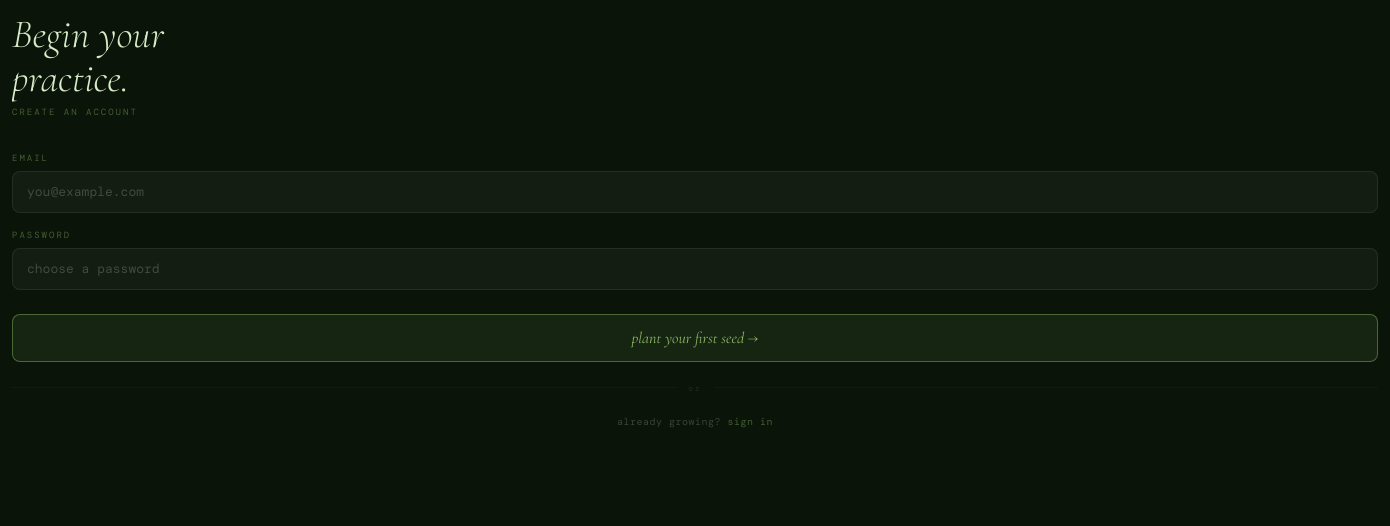
it: auth flow › shows an error for duplicate signup email
Step 1. Type "taken@garden.com" into the field with test id "auth-signup-email" → (695, 192), box [12, 171, 1378, 212]
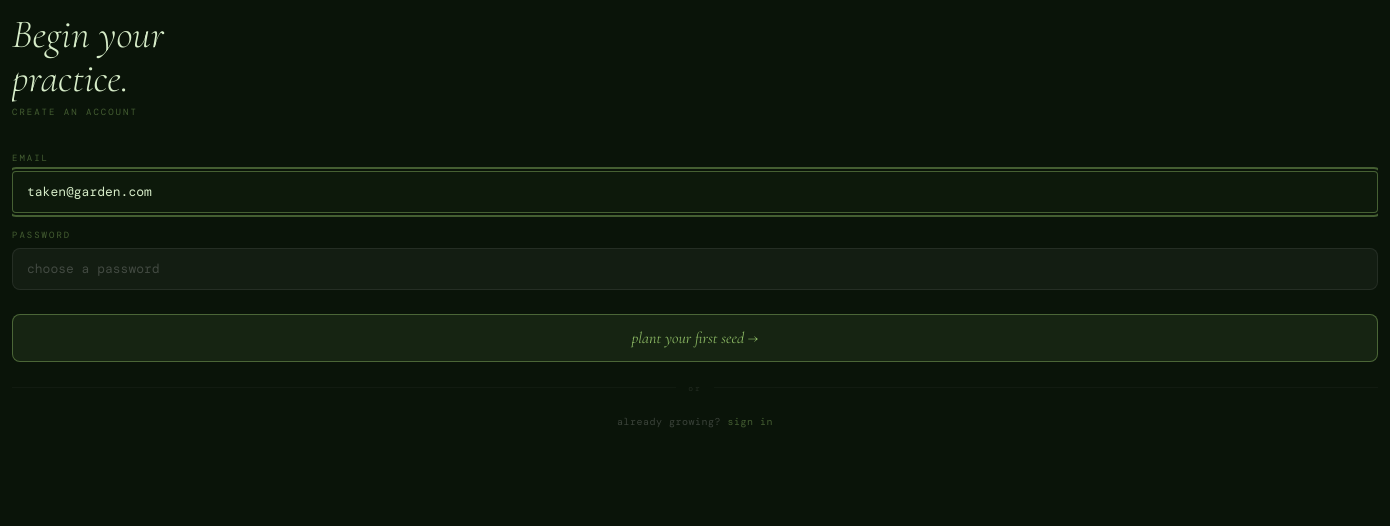
Step 2. Type "anotherpass" into the password field with test id "auth-signup-password" → (695, 269), box [12, 248, 1378, 290]
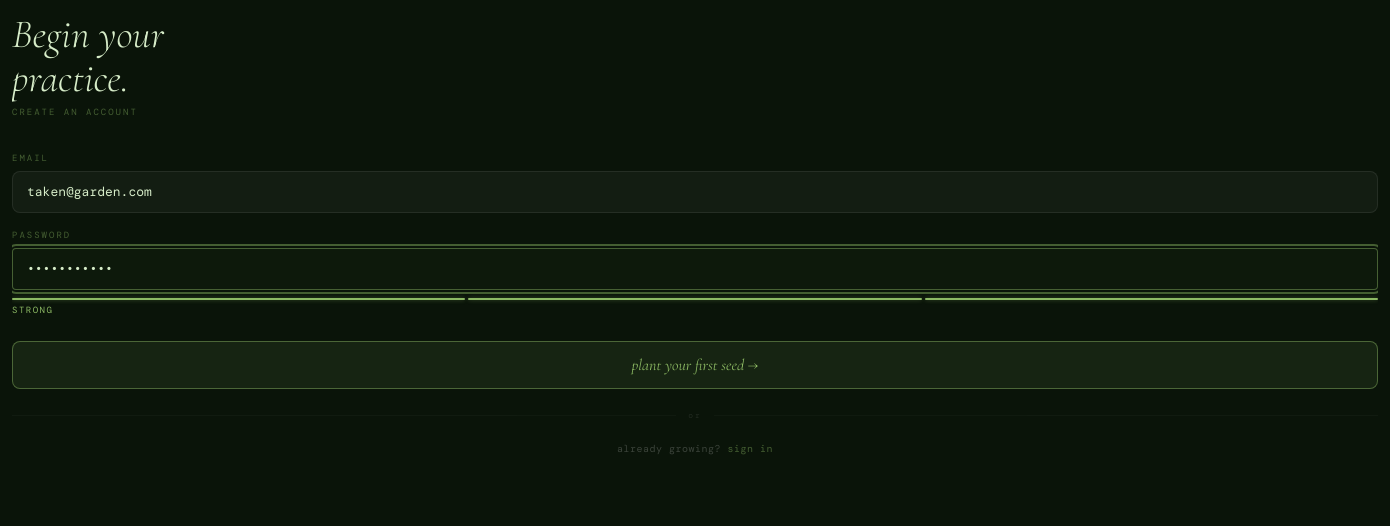
Step 3. Click the button with test id "auth-signup-submit" → (695, 365), box [12, 341, 1378, 389]
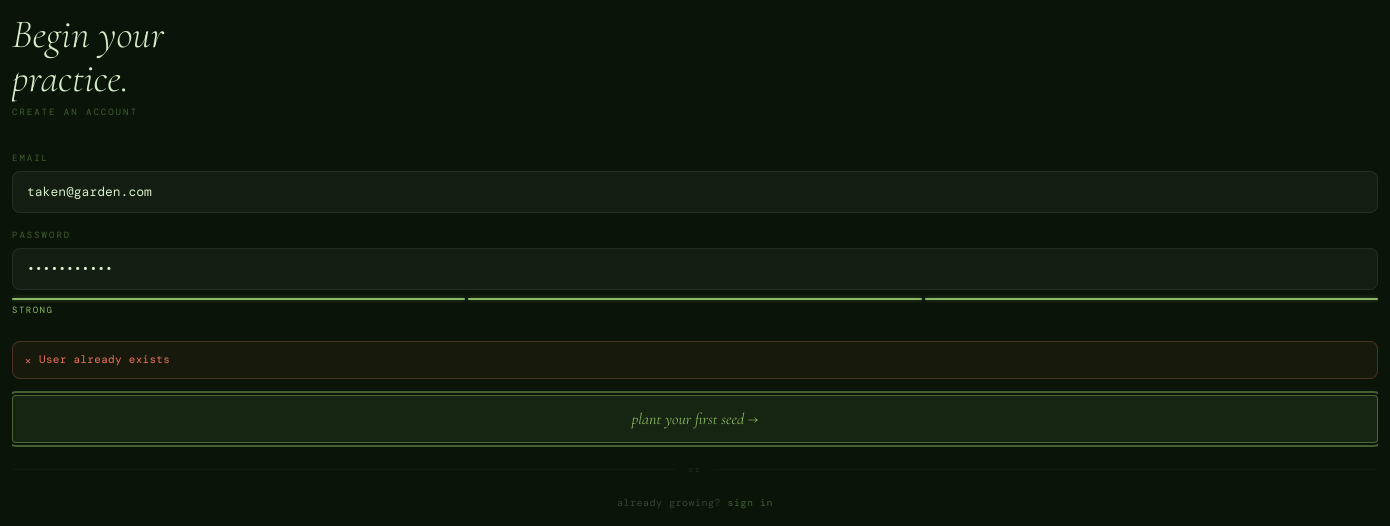
Result: the message shows "User already exists" at [39, 352, 170, 366]
